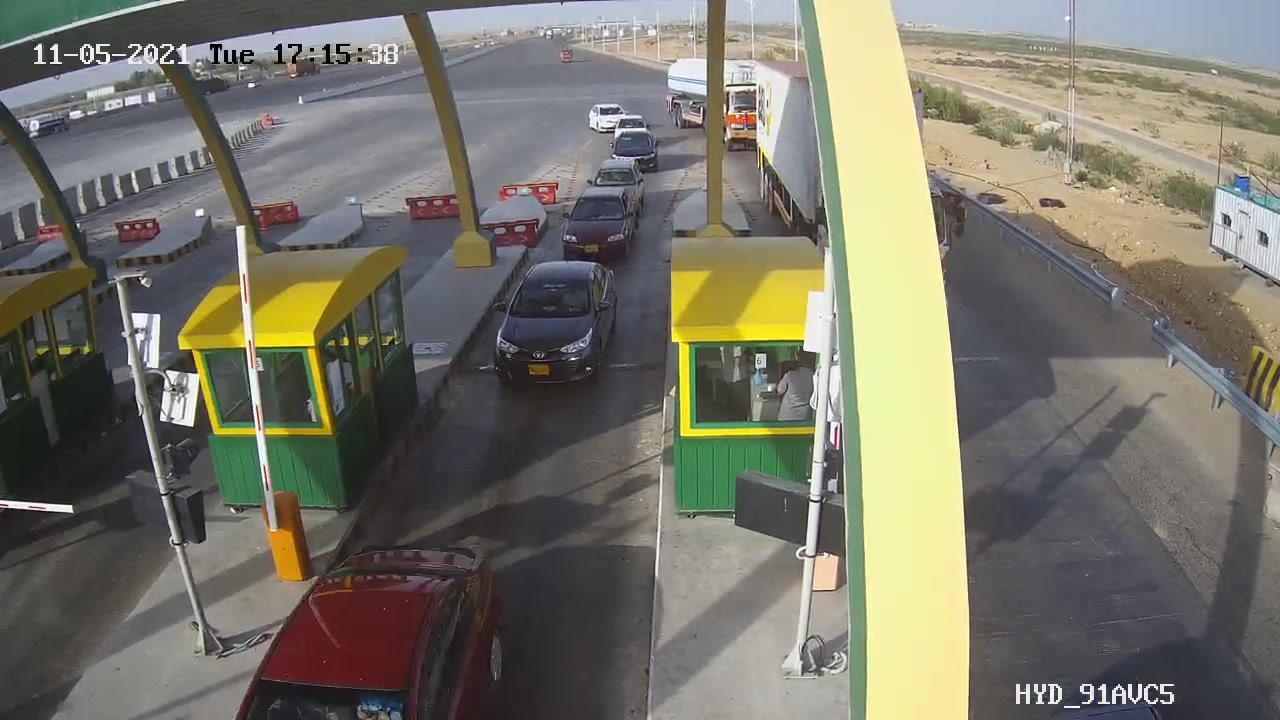F1: (474, 247, 637, 405)
